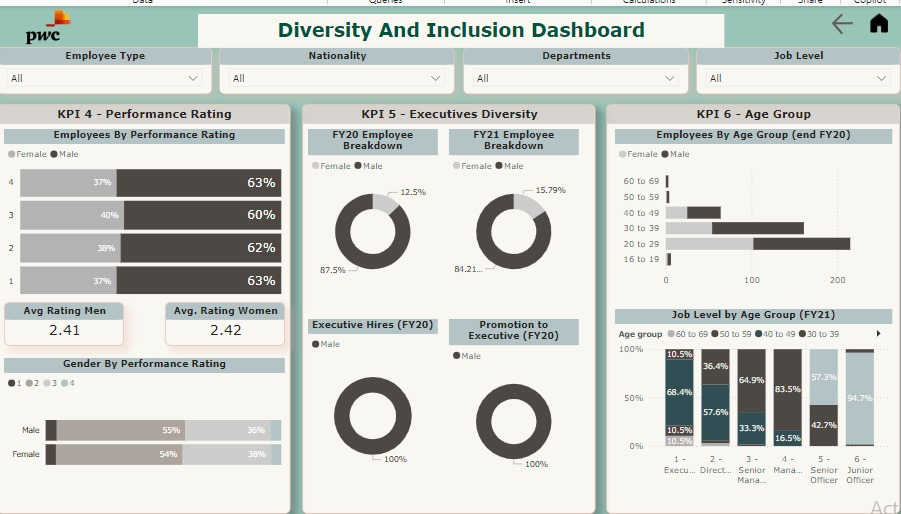

This screenshot's page, from the dashboard's own definition file:
{"tool":"powerbi","page":{"name":"Dashboard 2","canvas":[1280,720],"ordinal":1},"visuals":[{"type":"textbox","title":"KPI 6 - Age Group","box":[862.8,139.5,417.2,580.9],"z":0},{"type":"textbox","title":"KPI 5 - Executives Diversity","box":[431.9,139.2,416.3,580.6],"z":1000},{"type":"textbox","title":"KPI 4 - Performance Rating","box":[0,139.2,416.3,580.6],"z":2000},{"type":"barChart","title":"Employees By Age Group (end FY20)","fields":{"Series":["Pharma Group AG.Gender"],"Category":["Pharma Group AG.Age group"],"Y":["CountNonNull(Pharma Group AG.Employee ID)"]},"box":[875.6,173.7,393,230.7],"z":3000},{"type":"hundredPercentStackedBarChart","title":"Employees By Performance Rating","fields":{"Series":["Pharma Group AG.Gender"],"Y":["CountNonNull(Pharma Group AG.Employee ID)"],"Category":["Pharma Group AG.FY20 Performance Rating"]},"box":[9.6,173.9,398.3,245.9],"z":4000},{"type":"card","title":"Avg Rating Men","fields":{"Values":["Backing 1.avgMenPerformanceRating"]},"box":[9.6,419.9,170.3,62.4],"z":5000},{"type":"card","title":"Avg. Rating Women","fields":{"Values":["Backing 1.avgWomenPerformanceRating"]},"box":[237.5,419.9,170.3,62.4],"z":6000},{"type":"hundredPercentStackedBarChart","title":"Gender By Performance Rating","fields":{"Category":["Pharma Group AG.Gender"],"Series":["Pharma Group AG.FY20 Performance Rating"],"Y":["CountNonNull(Pharma Group AG.Employee ID)"]},"box":[9.6,499,398.3,188.3],"z":7000},{"type":"donutChart","title":"FY20 Employee Breakdown","fields":{"Series":["Pharma Group AG.Gender"],"Y":["CountNonNull(Pharma Group AG.Employee ID)"]},"box":[441.4,173.7,183.7,230.7],"z":8000},{"type":"donutChart","title":"FY21 Employee Breakdown","fields":{"Series":["Pharma Group AG.Gender"],"Y":["CountNonNull(Pharma Group AG.Employee ID)"]},"box":[640.7,173.7,183.7,230.7],"z":9000},{"type":"donutChart","title":"Executive Hires (FY20)","fields":{"Series":["Pharma Group AG.Gender"],"Y":["CountNonNull(Pharma Group AG.Employee ID)"]},"box":[441.4,444.2,183.7,230.7],"z":10000},{"type":"donutChart","title":"Promotion to Executive (FY20)","fields":{"Series":["Pharma Group AG.Gender"],"Y":["CountNonNull(Pharma Group AG.Employee ID)"]},"box":[640.7,444.2,183.7,230.7],"z":11000},{"type":"hundredPercentStackedColumnChart","title":"Job Level by Age Group (FY21)","fields":{"Y":["CountNonNull(Pharma Group AG.Employee ID)"],"Series":["Pharma Group AG.Age group"],"Category":["Pharma Group AG.Job Level after FY21 promotions"]},"box":[875.7,429.5,393.5,257.9],"z":12000},{"type":"slicer","title":"Employee Type","fields":{"Values":["Pharma Group AG.Time type","Pharma Group AG.FTE group"]},"box":[0,58.2,304.9,67.5],"z":13000},{"type":"slicer","title":"Nationality","fields":{"Values":["Pharma Group AG.Nationality 1"]},"box":[315.3,58.2,334,67.5],"z":14000},{"type":"slicer","title":"Departments","fields":{"Values":["Pharma Group AG.Department @01.07.2020"]},"box":[660.9,58.2,320,67.5],"z":15000},{"type":"slicer","title":"Job Level","fields":{"Values":["Pharma Group AG.Job Level after FY20 promotions"]},"box":[990.3,58.2,289.7,67.5],"z":16000},{"type":"textbox","box":[284.3,10.8,746.2,48],"z":17000},{"type":"image","box":[9.6,0,126,58.8],"z":18000},{"type":"actionButton","box":[1179.2,6,49.2,39.6],"z":19000},{"type":"image","box":[1228.4,0,43.2,49.2],"z":20000}]}

Visuals, with their boxes on the page's 1280x720 design canvas (x1, y1, x2, y2). These are canvas units, not pixel positions in the 901x514 screenshot, which may show the page scaled, cropped or inside an application window:
"KPI 6 - Age Group" textbox: bbox=[863, 140, 1280, 720]
"KPI 5 - Executives Diversity" textbox: bbox=[432, 139, 848, 720]
"KPI 4 - Performance Rating" textbox: bbox=[0, 139, 416, 720]
"Employees By Age Group (end FY20)" barChart: bbox=[876, 174, 1269, 404]
"Employees By Performance Rating" hundredPercentStackedBarChart: bbox=[10, 174, 408, 420]
"Avg Rating Men" card: bbox=[10, 420, 180, 482]
"Avg. Rating Women" card: bbox=[238, 420, 408, 482]
"Gender By Performance Rating" hundredPercentStackedBarChart: bbox=[10, 499, 408, 687]
"FY20 Employee Breakdown" donutChart: bbox=[441, 174, 625, 404]
"FY21 Employee Breakdown" donutChart: bbox=[641, 174, 824, 404]
"Executive Hires (FY20)" donutChart: bbox=[441, 444, 625, 675]
"Promotion to Executive (FY20)" donutChart: bbox=[641, 444, 824, 675]
"Job Level by Age Group (FY21)" hundredPercentStackedColumnChart: bbox=[876, 430, 1269, 687]
"Employee Type" slicer: bbox=[0, 58, 305, 126]
"Nationality" slicer: bbox=[315, 58, 649, 126]
"Departments" slicer: bbox=[661, 58, 981, 126]
"Job Level" slicer: bbox=[990, 58, 1280, 126]
textbox: bbox=[284, 11, 1030, 59]
image: bbox=[10, 0, 136, 59]
actionButton: bbox=[1179, 6, 1228, 46]
image: bbox=[1228, 0, 1272, 49]
